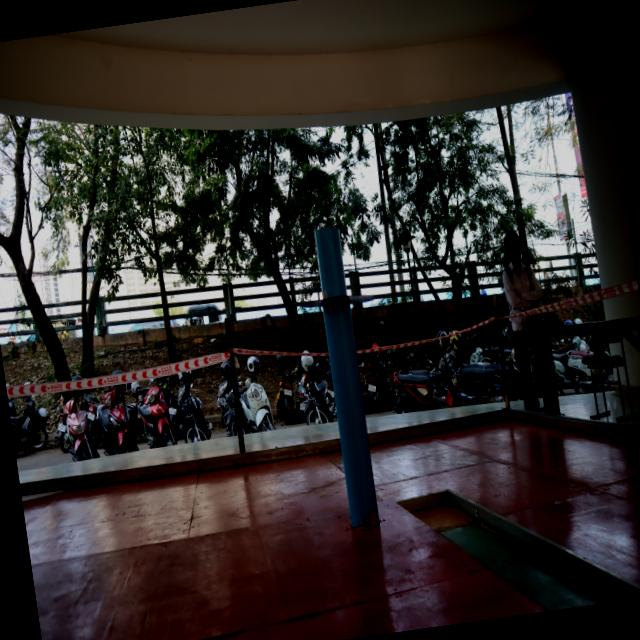pole: (296, 217, 378, 383)
